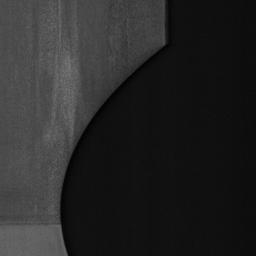Crescent gap: (60, 45, 165, 256)
